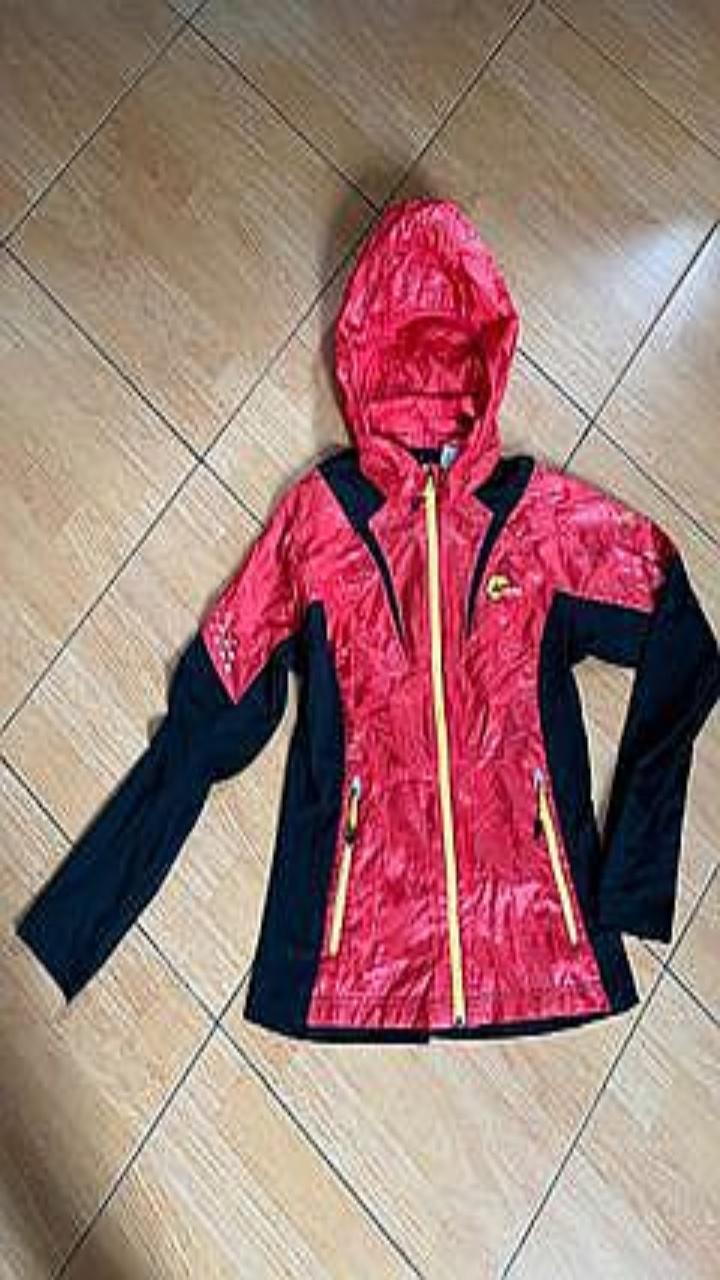Sports_Jacket: (16, 198, 719, 1039)
